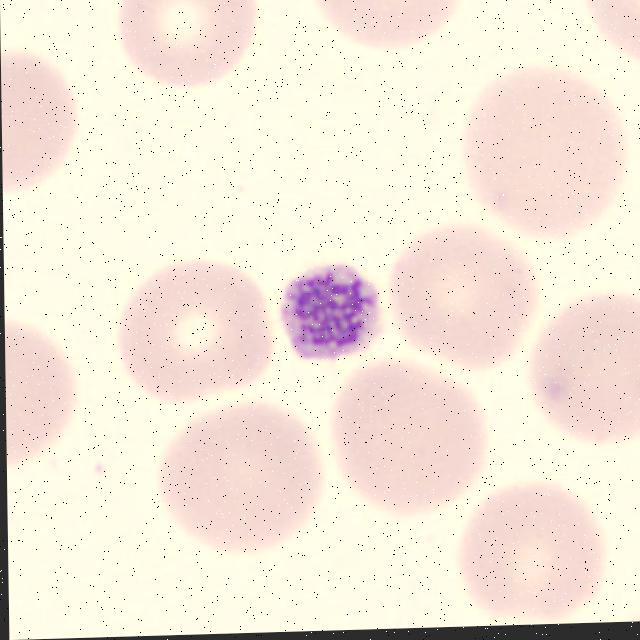platelets: (278, 266, 384, 370)
rbc: (457, 57, 639, 239), (150, 395, 323, 563), (369, 219, 538, 375), (330, 357, 491, 515), (443, 480, 607, 627), (115, 254, 274, 402), (528, 290, 640, 448), (120, 0, 272, 96), (1, 34, 87, 196), (316, 0, 473, 82), (5, 314, 84, 473)
